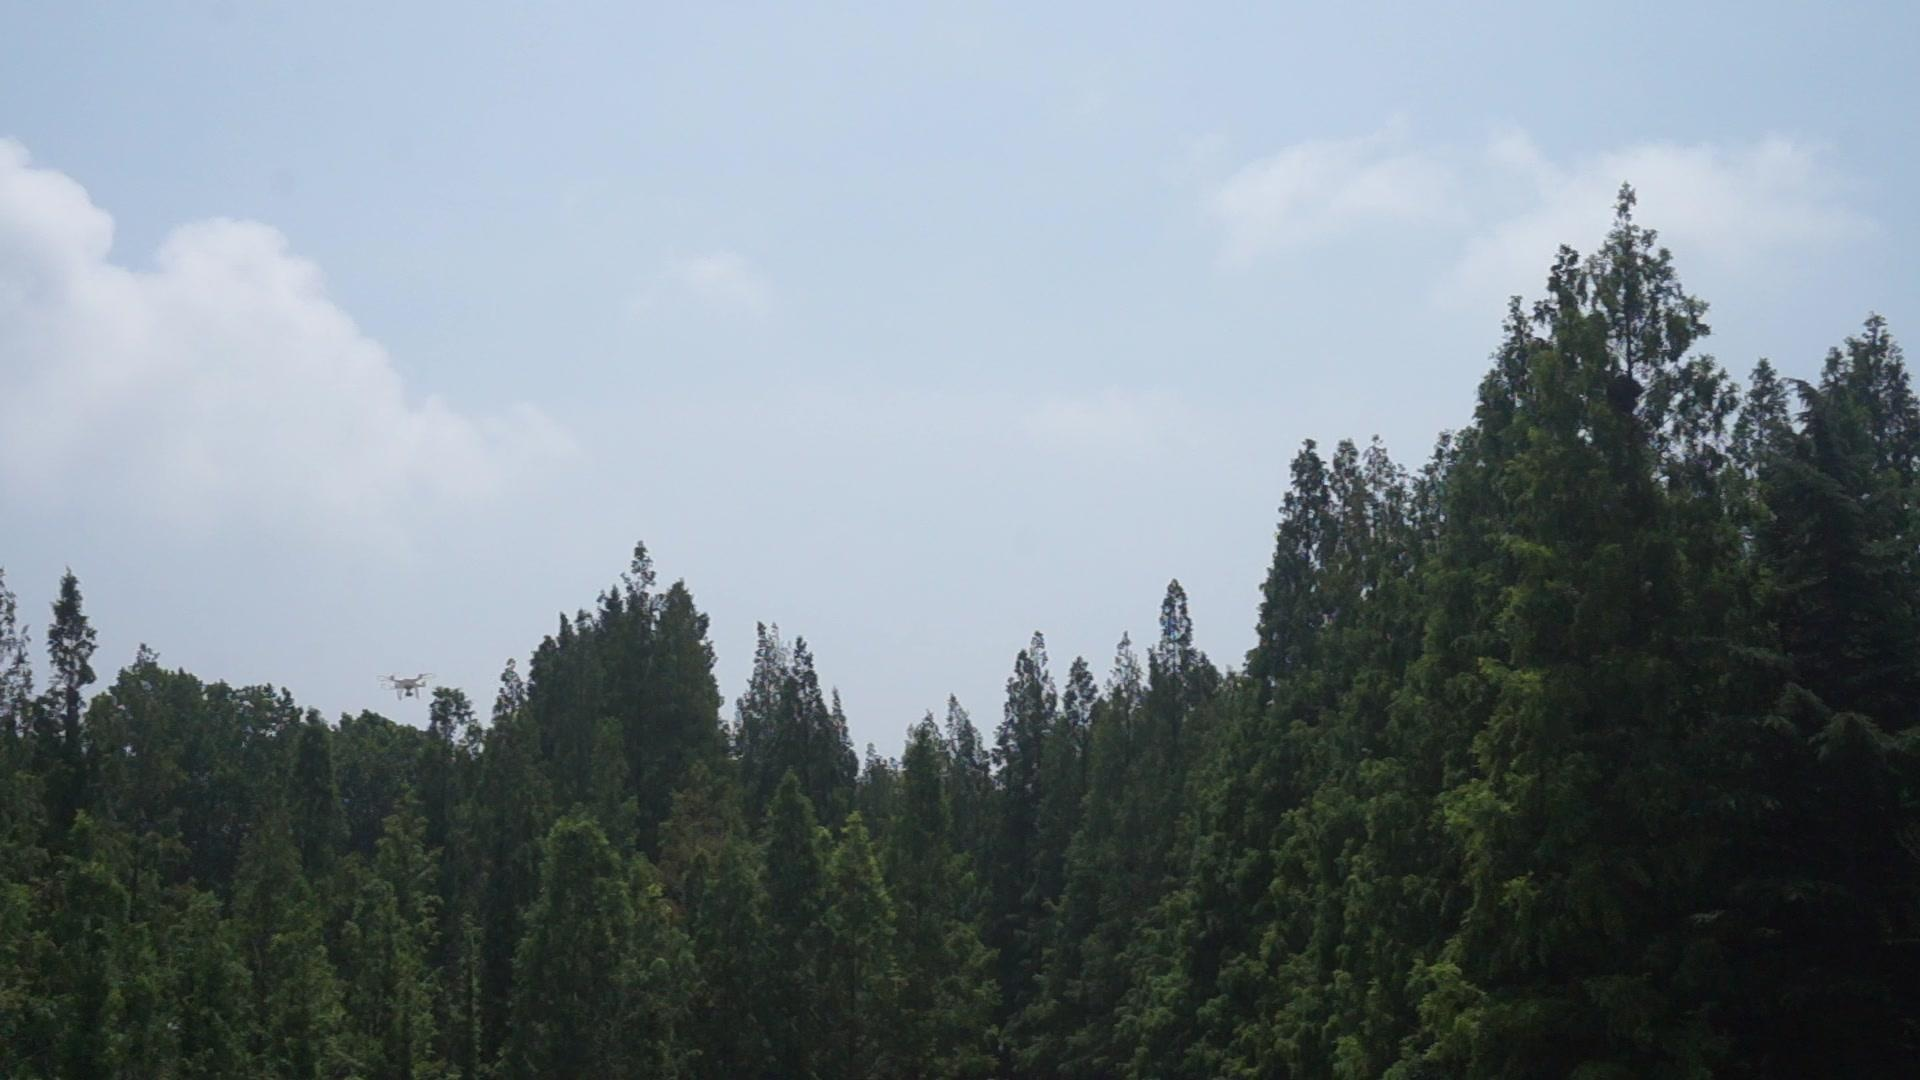UAV: (376, 674, 438, 702)
